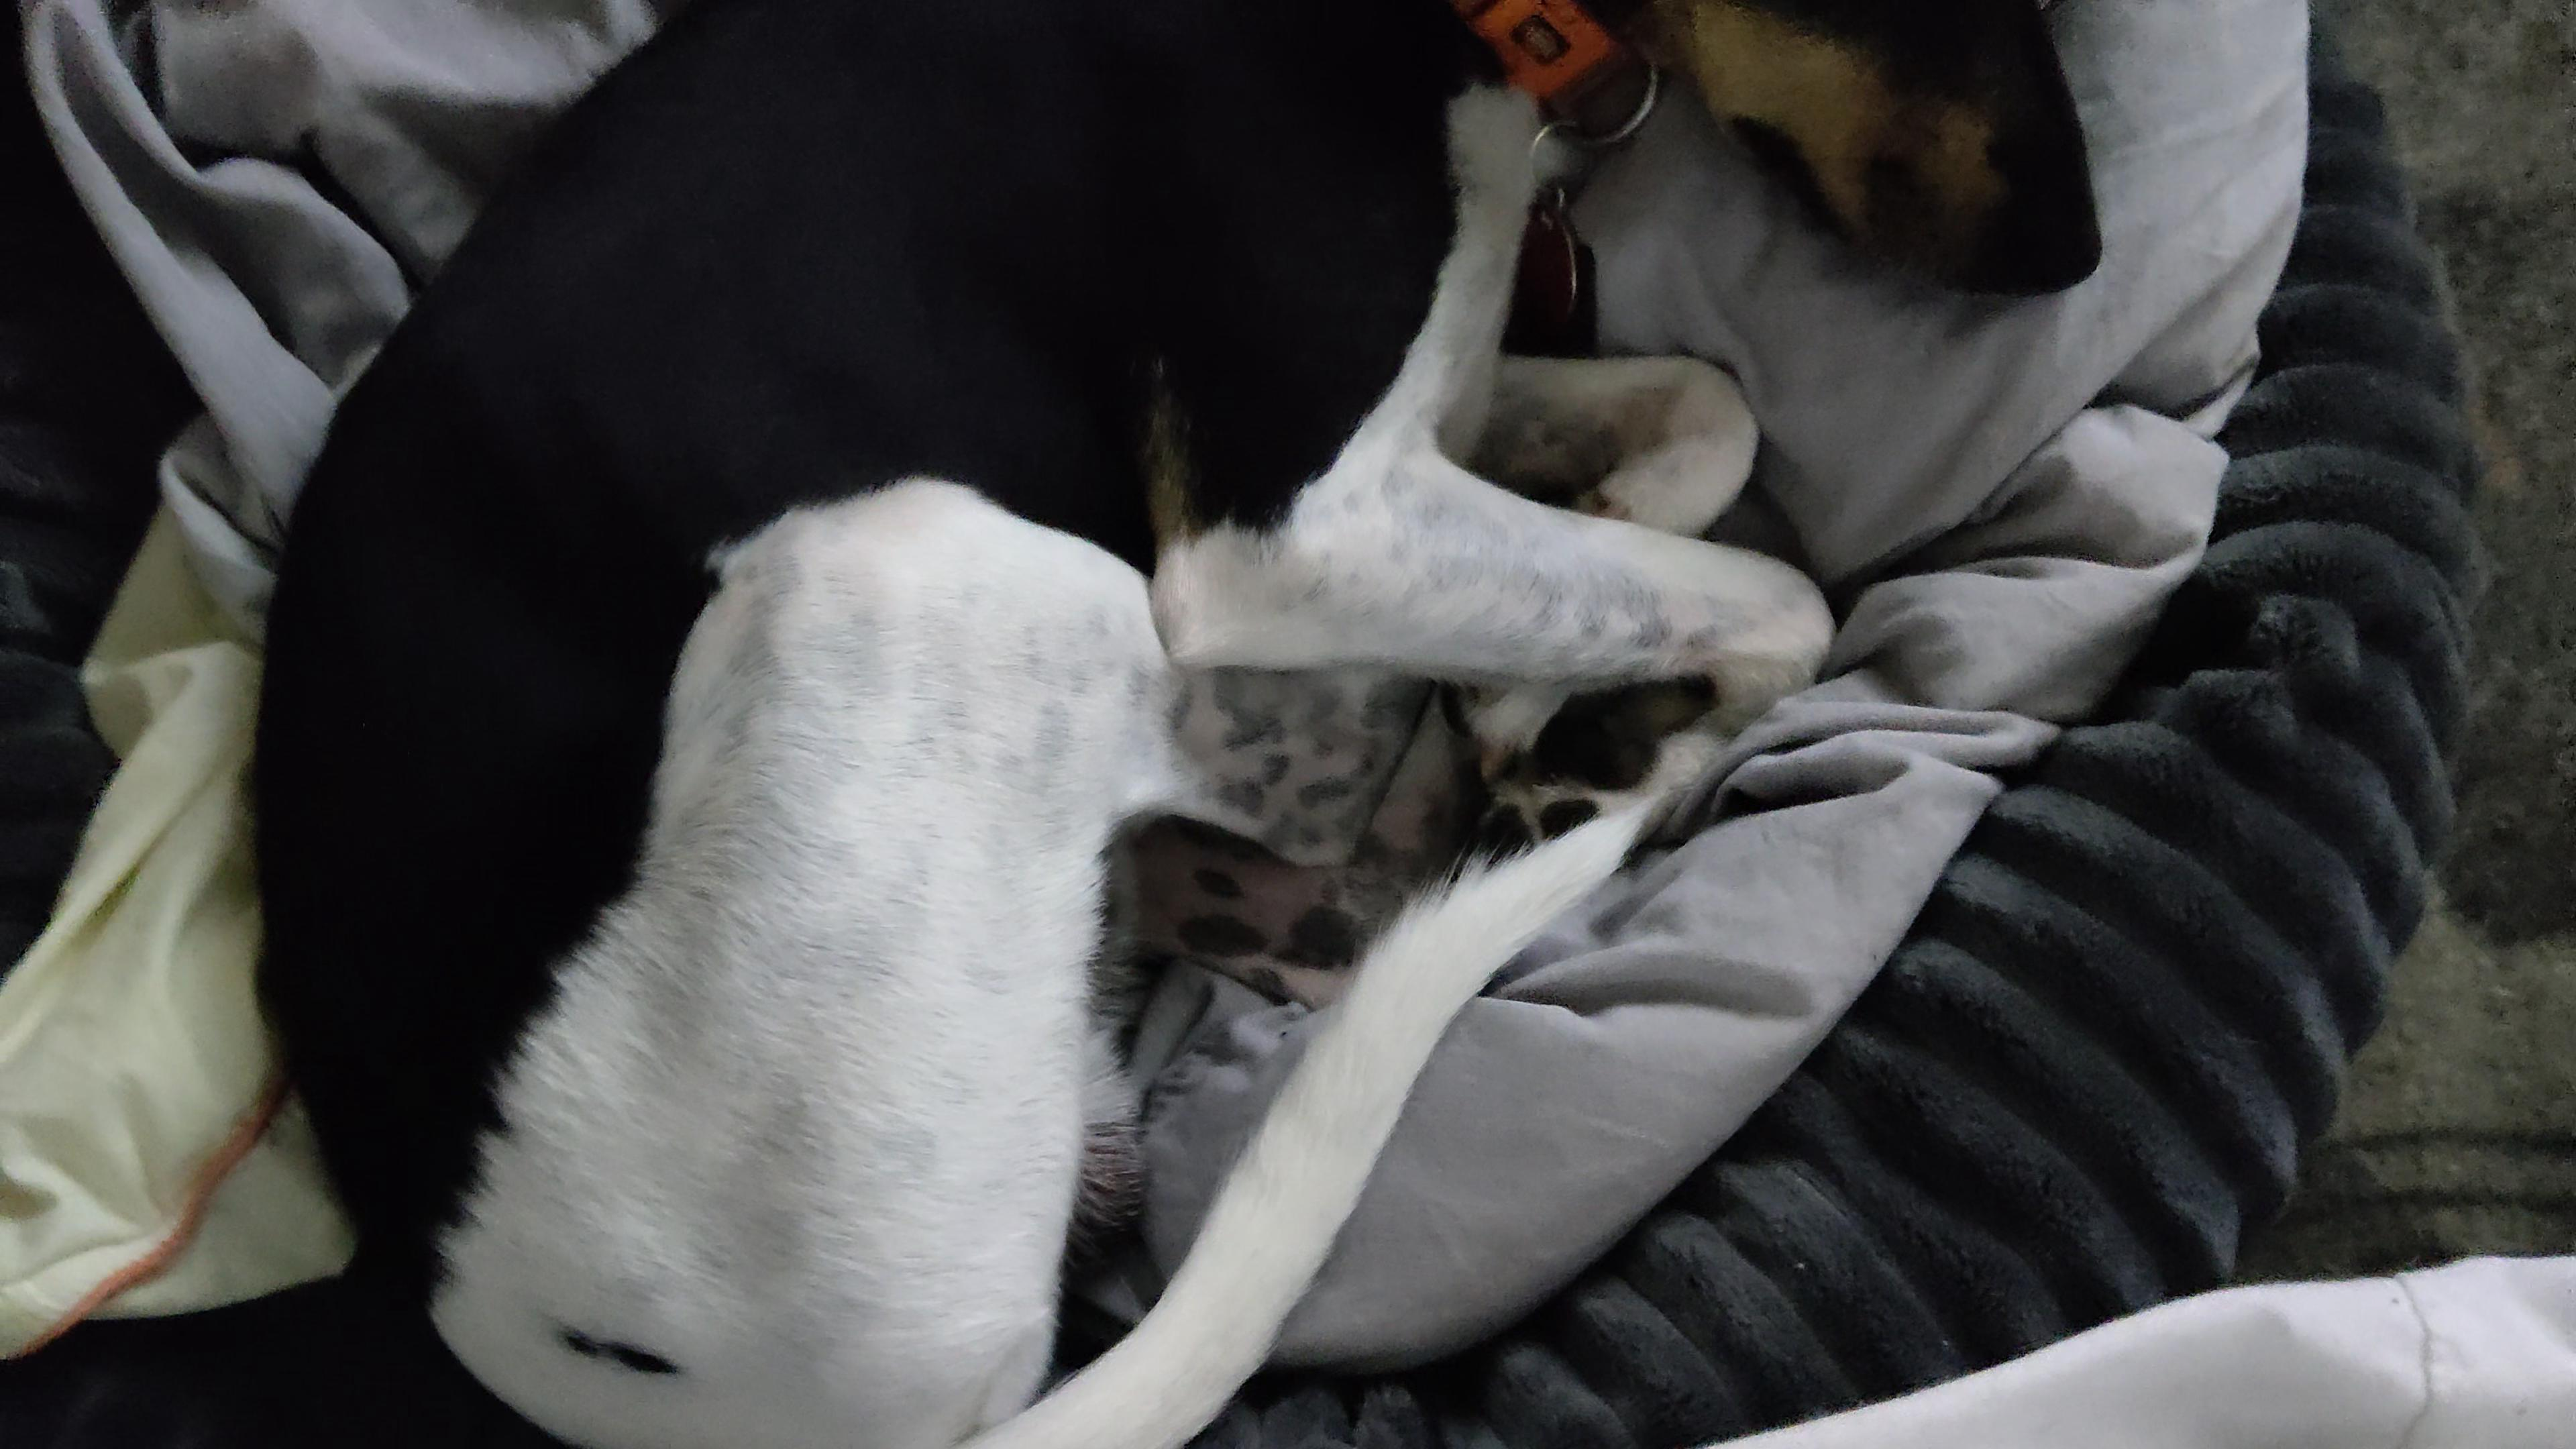Dog: (228, 0, 2121, 1449)
